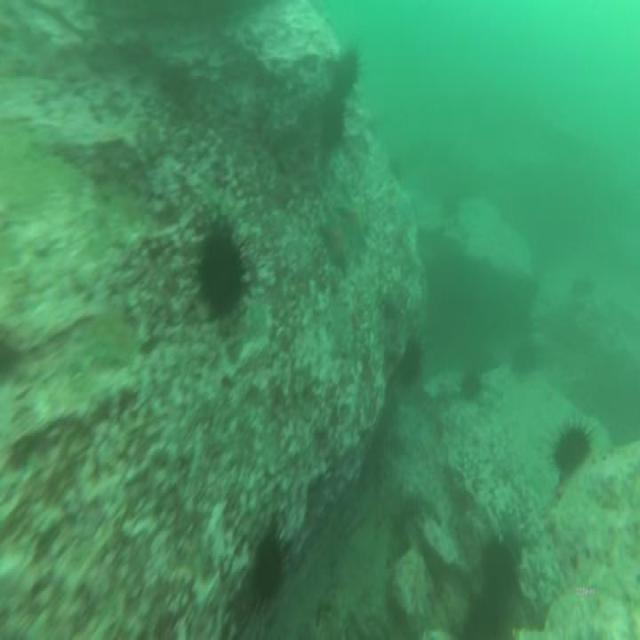echinus: (199, 229, 243, 315), (464, 592, 511, 640), (480, 537, 516, 596), (255, 539, 285, 599), (554, 428, 588, 471), (334, 48, 361, 88), (320, 98, 342, 144), (400, 342, 418, 386), (512, 341, 534, 376), (459, 368, 478, 395)
starfish: (316, 217, 346, 270), (337, 193, 368, 242)
